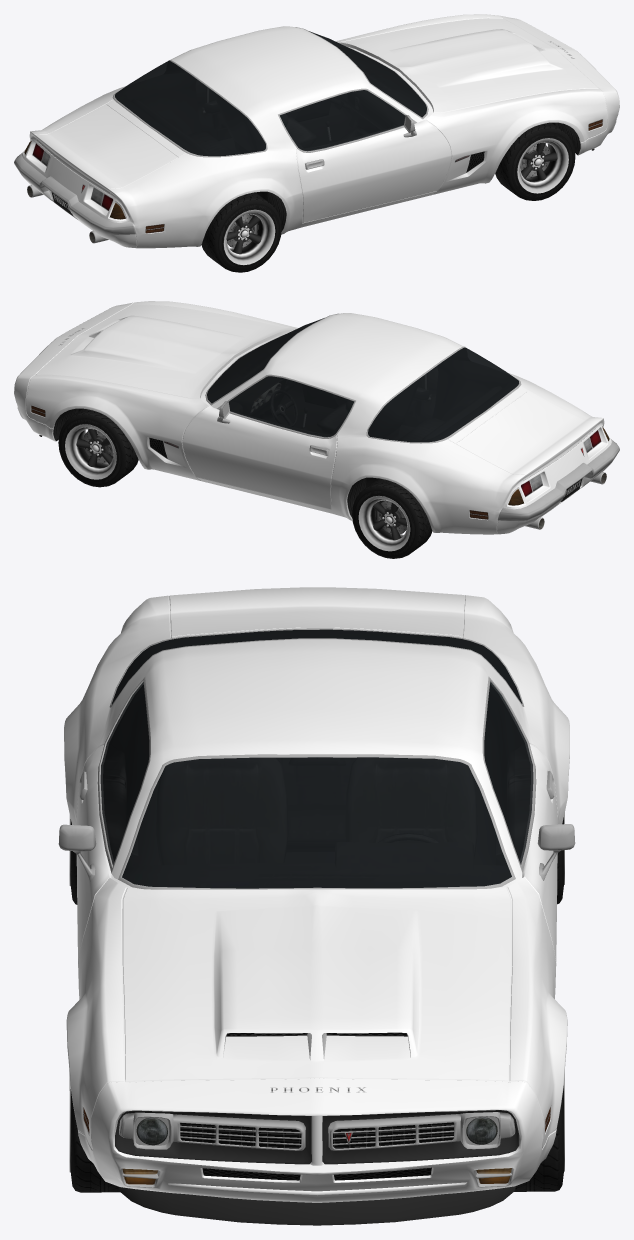
File: phoenix.glb
3 renders of one model, top to bottom at view 1: azimuth 30°, elevation 25°; view 2: azimuth 150°, elevation 25°; view 3: azimuth 270°, elevation 25°, orthographic. The views are drawn at different scales.
Parts seen in each view (by area): view 1: body, spin_RR, spin_FR; view 2: body, spin_RL, spin_FL; view 3: body, spin_FR, spin_FL.
Part boxes in pixels (x1,y1,x2,y2): body: (14, 14, 619, 248); spin_RR: (201, 192, 281, 272); spin_FR: (495, 122, 575, 200); body: (14, 301, 619, 534); spin_RL: (352, 478, 432, 558); spin_FL: (58, 408, 138, 487); body: (58, 587, 575, 1225); spin_FR: (69, 1072, 119, 1192); spin_FL: (514, 1071, 564, 1191).
Size of the model in its own units: 5.05 by 1.37 by 2.16.
8 materials, 7 textured.
